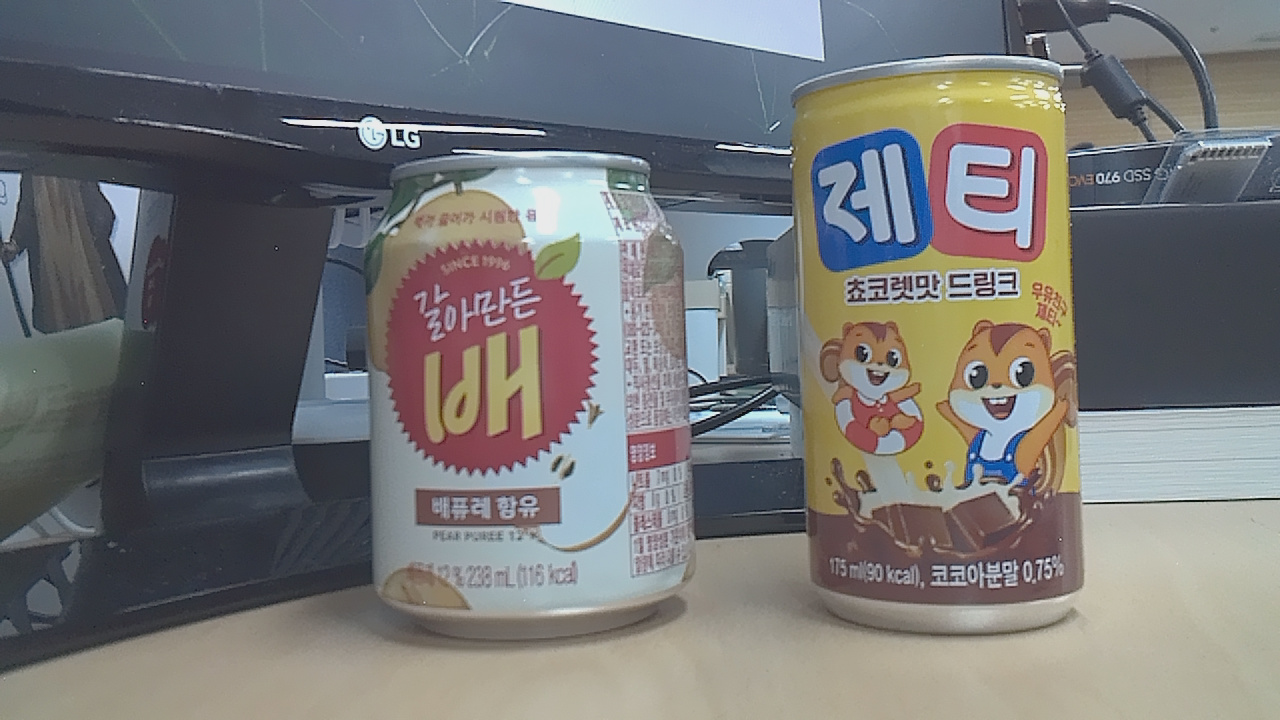IdH (pear juice): (341, 145, 726, 649)
jetty: (794, 44, 1093, 651)
